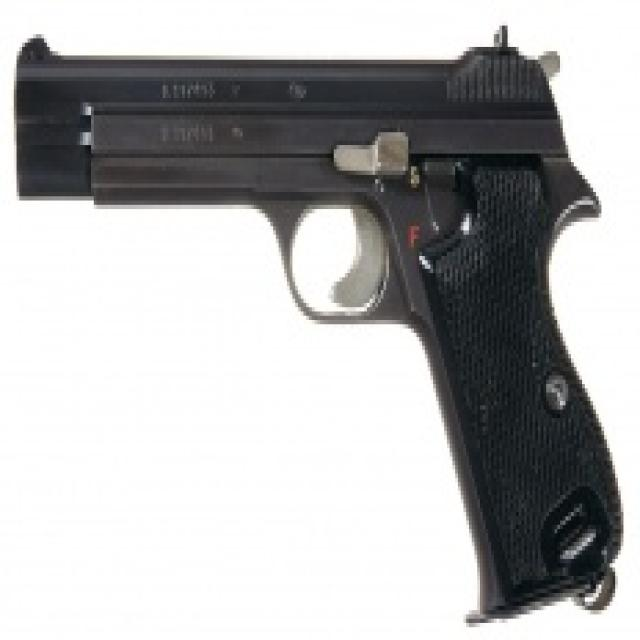pistol: (11, 12, 628, 634)
